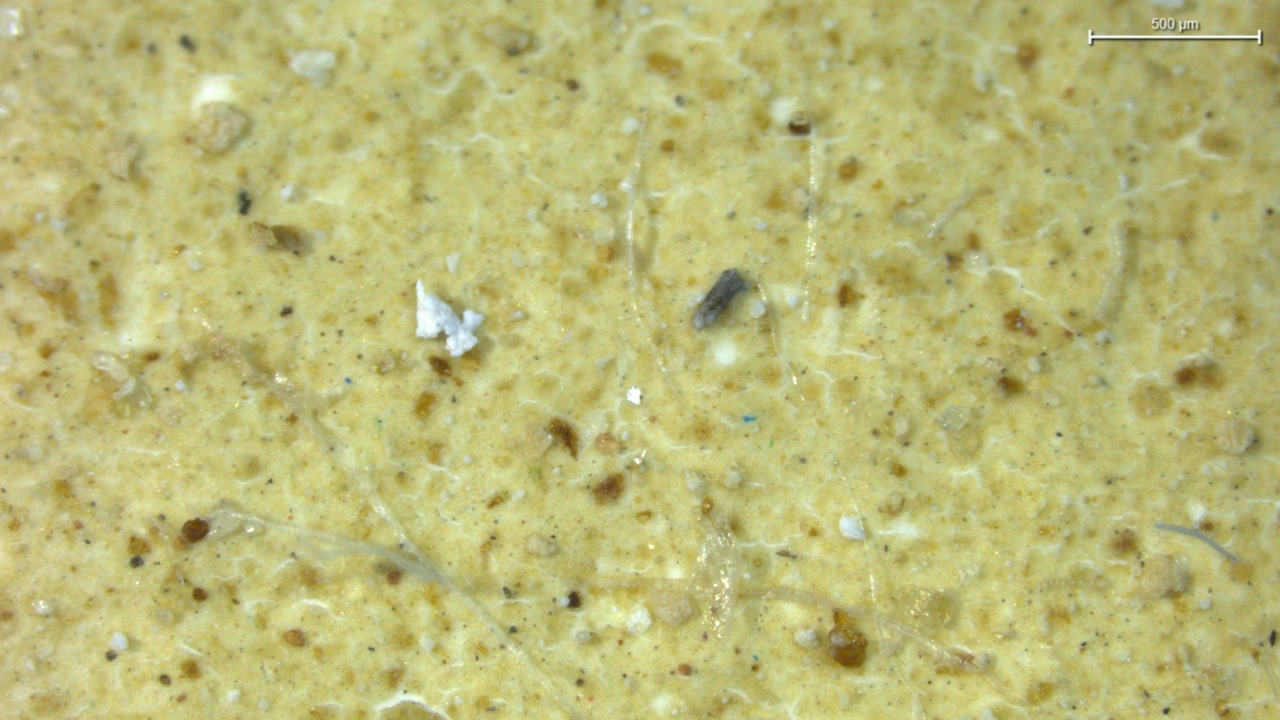microplastic_fragment: (416, 281, 483, 356), (188, 102, 249, 153)
